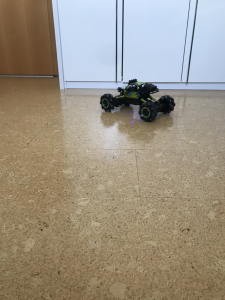remote control car: (97, 77, 176, 122)
